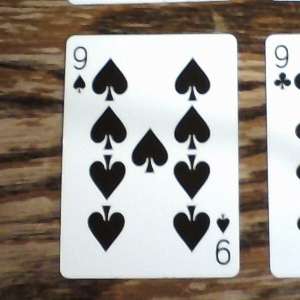card: (59, 32, 241, 278)
